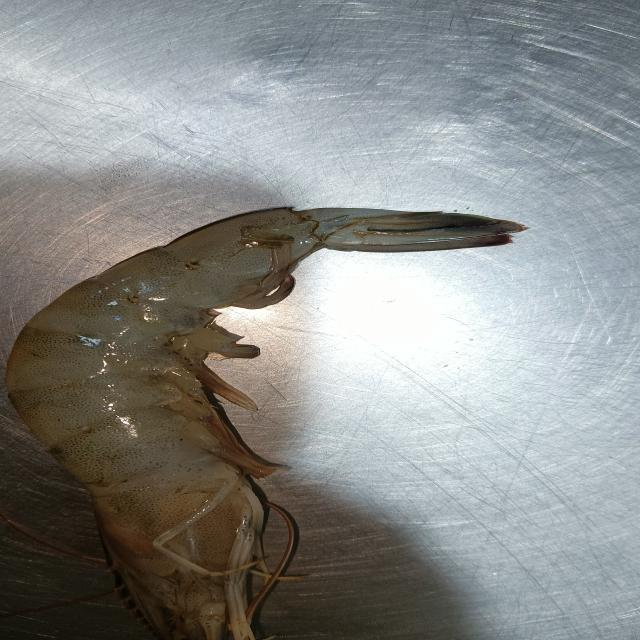shrimp: (7, 208, 523, 637)
